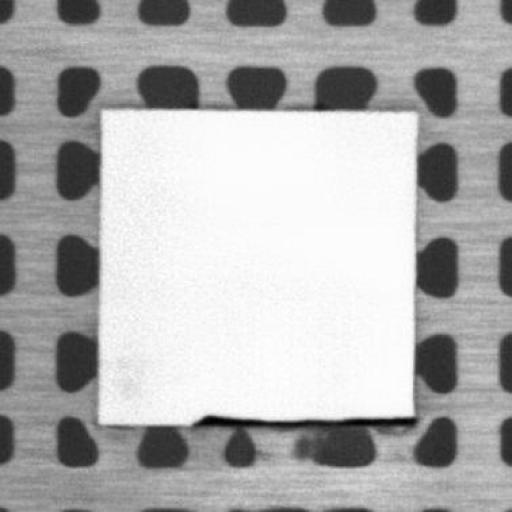DIE_BROKEN: (187, 411, 414, 427)
